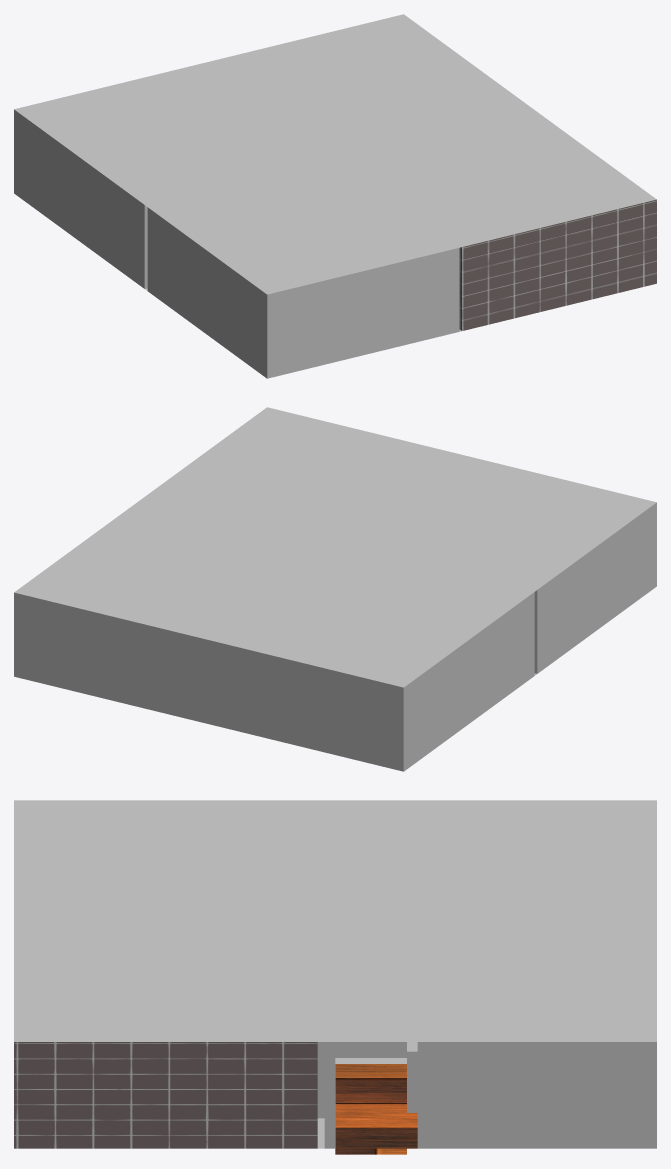
File: home_mesh.fbx
3 renders of one model, top to bottom at view 1: azimuth 30°, elevation 25°; view 2: azimuth 150°, elevation 25°; view 3: azimuth 270°, elevation 25°, orthographic. The views are drawn at different scales.
Visible parts, largest first — view 1: sufit, Sciany.002, Sciany.001, Sciany; view 2: sufit, Sciany, Sciany.002; view 3: sufit, Sciany.001, Sciany, podloga1.
Part boxes in pixels (x1,y1,x2,y2): sufit: [14, 14, 656, 294]; Sciany.002: [147, 207, 459, 378]; Sciany.001: [459, 199, 656, 330]; Sciany: [14, 109, 147, 288]; sufit: [14, 407, 656, 687]; Sciany: [14, 592, 534, 771]; Sciany.002: [534, 502, 656, 673]; sufit: [14, 800, 656, 1041]; Sciany.001: [14, 1042, 317, 1148]; Sciany: [317, 1042, 656, 1154]; podloga1: [335, 1064, 417, 1148].
Size of the model in its own units: 1640 by 330 by 1800.
